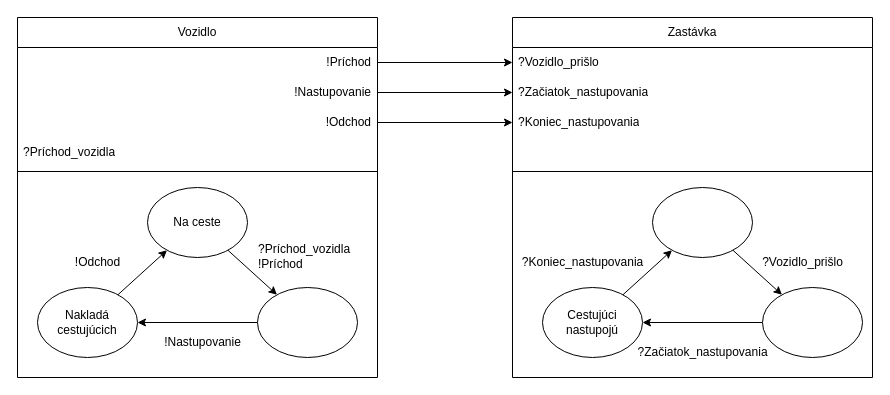
Image size: 890x395. Some labels were removed from this diagram. Here are the shapes that lost their labels. From the top down, the centre of each, then its label:
At (x=702, y=222): "Cestujúci čakajú".
At (x=307, y=322): "Na zastávke".
At (x=812, y=322): "Vozidlo na zastávke".
